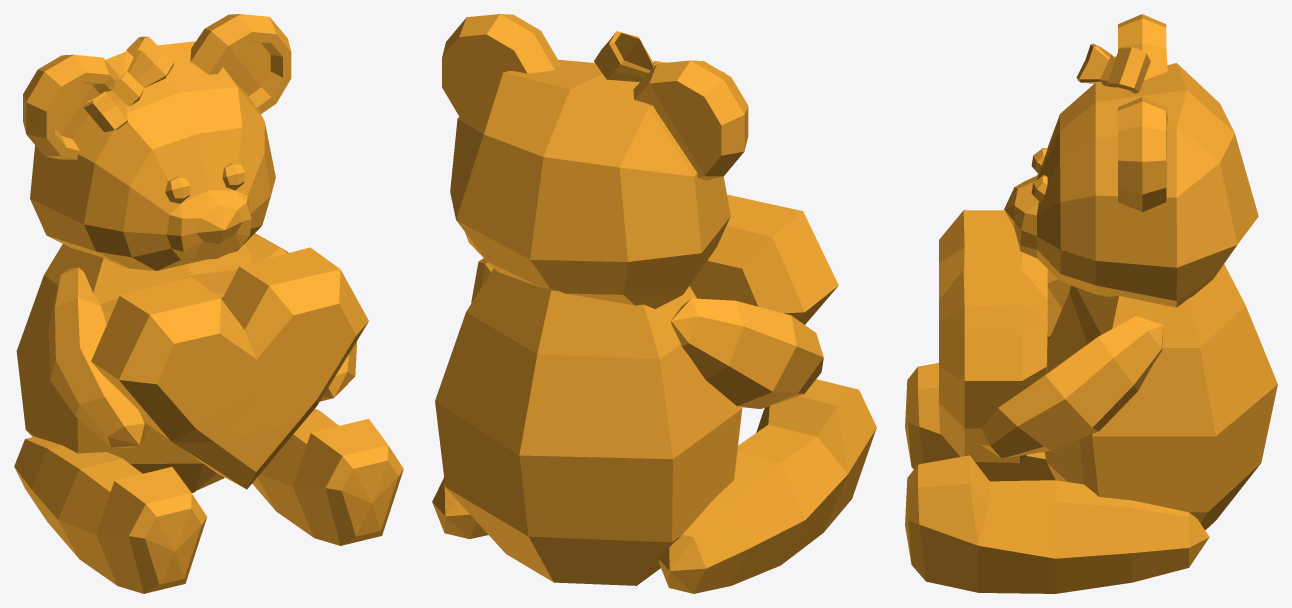
The model's file is SM_Toy_Teddy_Bear_4july.fbx.
The picture shows the model from 3 angles, left to right: view 1: azimuth 30°, elevation 25°; view 2: azimuth 150°, elevation 25°; view 3: azimuth 270°, elevation 25°; orthographic projection. The views are drawn at different scales.
Visible parts, largest first — view 1: toy-teddy-bear-4july; view 2: toy-teddy-bear-4july; view 3: toy-teddy-bear-4july.
Part boxes in pixels (left/top/right/bottom): toy-teddy-bear-4july: left=14, top=14, right=403, bottom=593; toy-teddy-bear-4july: left=432, top=14, right=876, bottom=593; toy-teddy-bear-4july: left=905, top=14, right=1277, bottom=593.
Size of the model in its own units: 0.2192 by 0.3524 by 0.2447.
